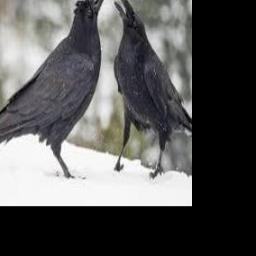Crow: (0, 0, 108, 179), (112, 0, 192, 180)
